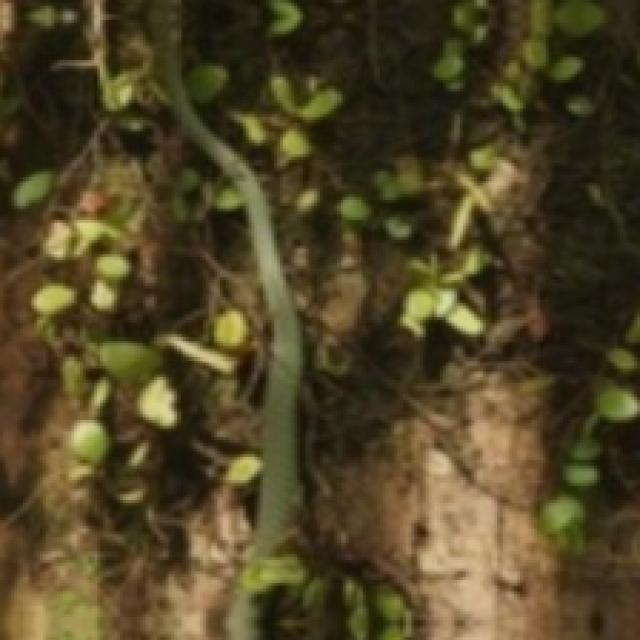paradise tree snake: (0, 0, 303, 637), (163, 134, 257, 289)
